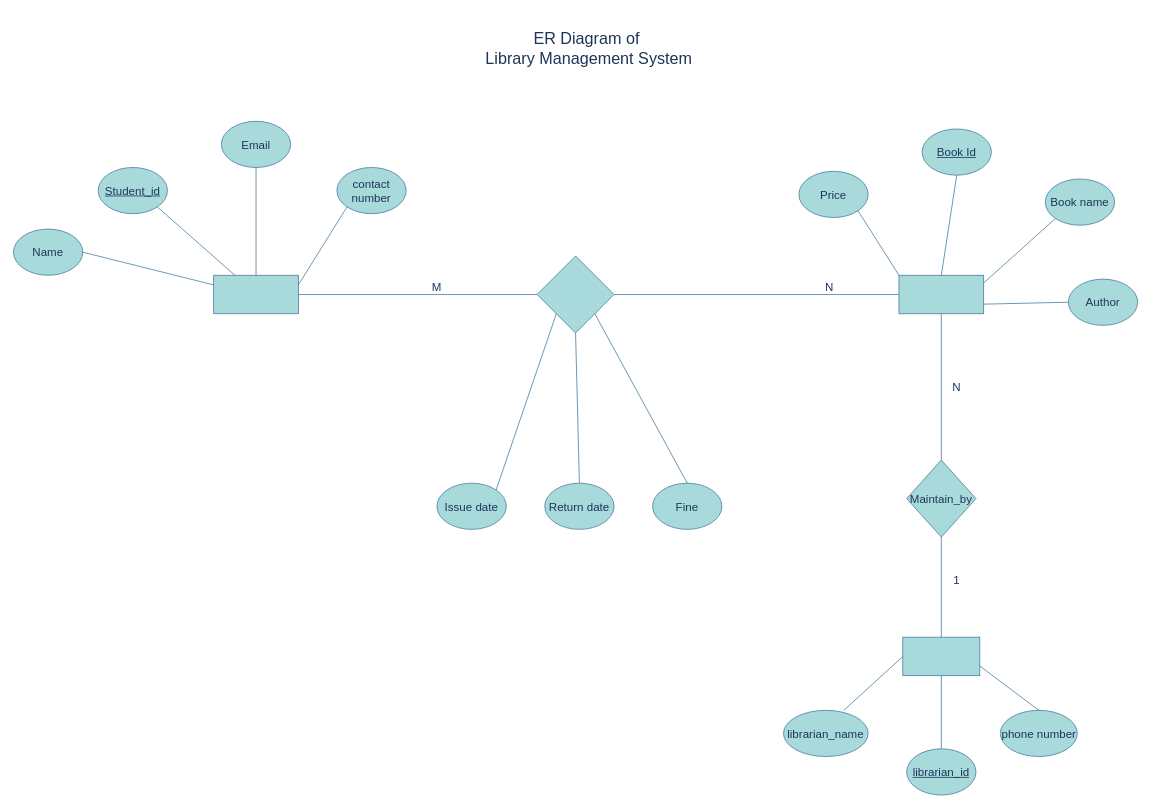
This 1151x809 diagram has some shape labels left out. The box of each missing label's shape, as (x1, y1, x2, y2) in pixels:
Books: (898, 275, 984, 314)
Issues: (536, 255, 614, 333)
Librarian: (902, 636, 980, 676)
Student: (213, 275, 298, 314)
